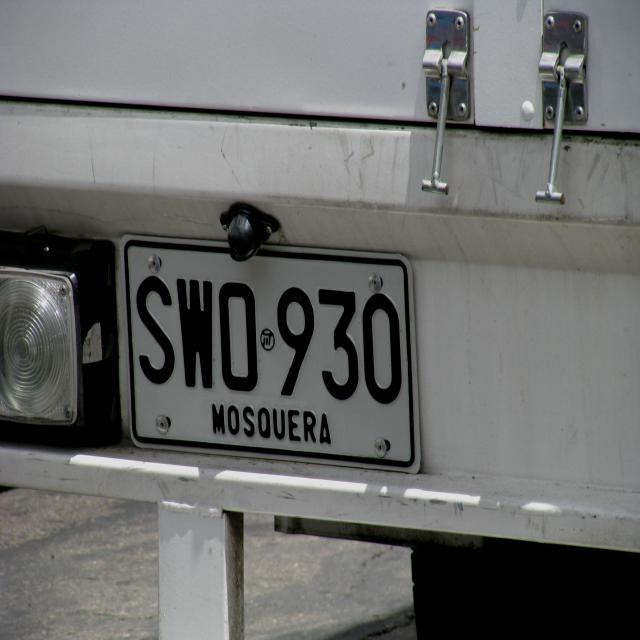placa: (115, 221, 423, 479)
